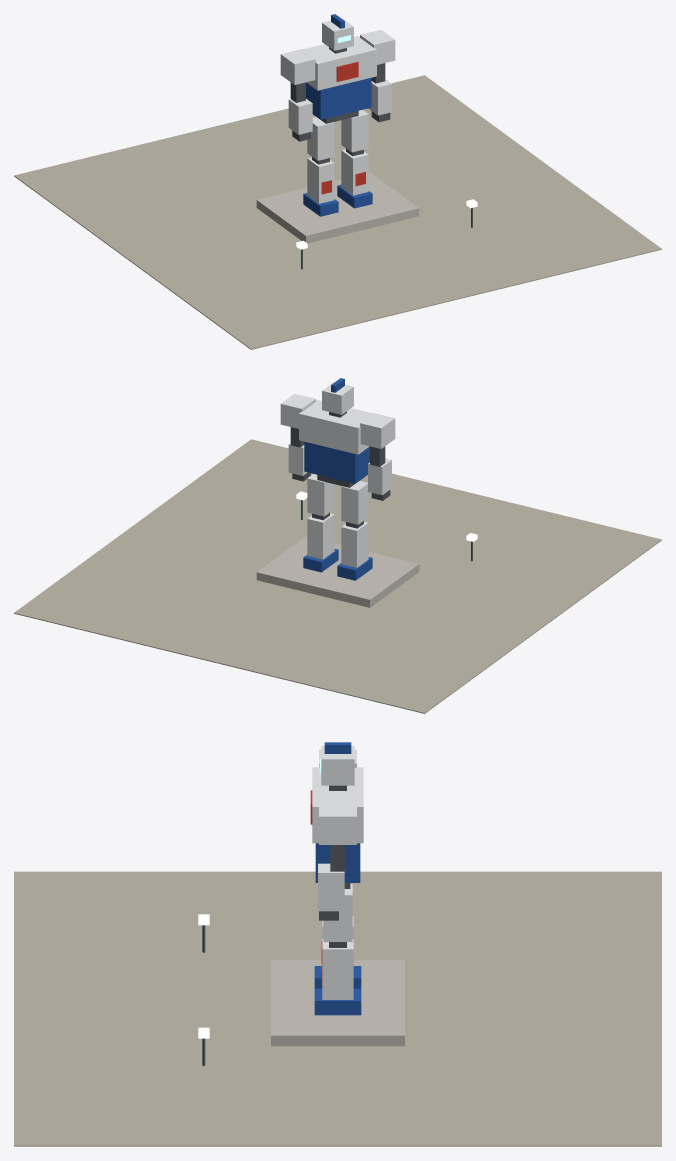
Rendered from giant_robot.glb.
3 renders of one model, top to bottom at view 1: azimuth 30°, elevation 25°; view 2: azimuth 150°, elevation 25°; view 3: azimuth 270°, elevation 25°, orthographic. The views are drawn at different scales.
Visible parts, largest first — view 1: Robot_static; view 2: Robot_static; view 3: Robot_static.
Boxes of the visible parts, x1,y1,x2,y2 form: Robot_static: (14, 14, 661, 349); Robot_static: (14, 378, 661, 713); Robot_static: (14, 742, 661, 1146).
Size of the model in its own units: 58 by 26.3 by 58.
